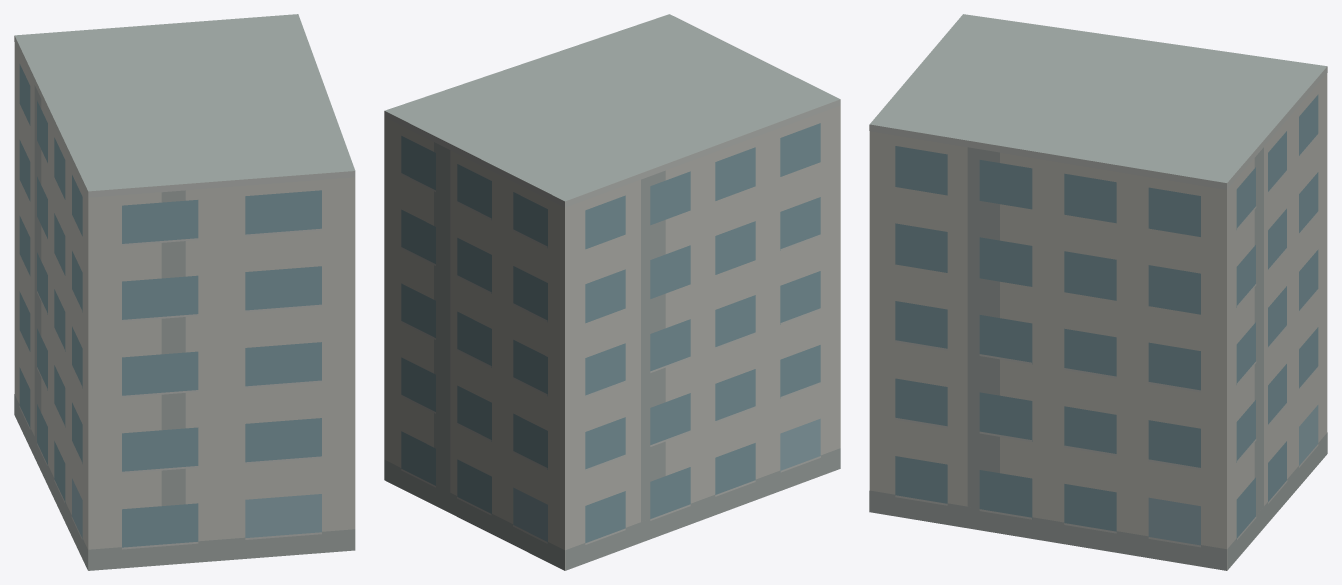
The model's file is survey-upis-32884267.glb.
3 renders of one model, left to right at view 1: azimuth 30°, elevation 25°; view 2: azimuth 150°, elevation 25°; view 3: azimuth 270°, elevation 25°, orthographic. The views are drawn at different scales.
Visible parts, largest first — view 1: survey-upis-32884267.tmp; view 2: survey-upis-32884267.tmp; view 3: survey-upis-32884267.tmp.
Boxes of the visible parts, bbox=[...] form: survey-upis-32884267.tmp: bbox=[14, 14, 355, 570]; survey-upis-32884267.tmp: bbox=[384, 14, 840, 570]; survey-upis-32884267.tmp: bbox=[869, 14, 1327, 570].
Bounding box in the file's own units: 13.3 × 14.2 × 15.21.
